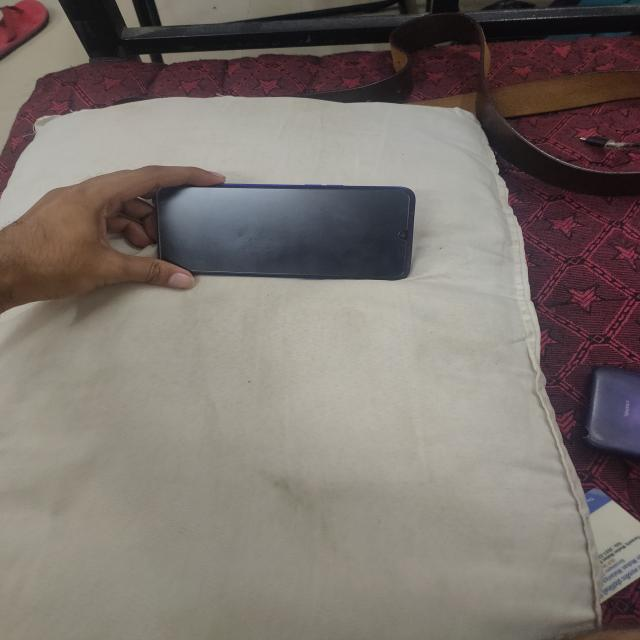Phone: (152, 180, 422, 278), (574, 358, 639, 459)
